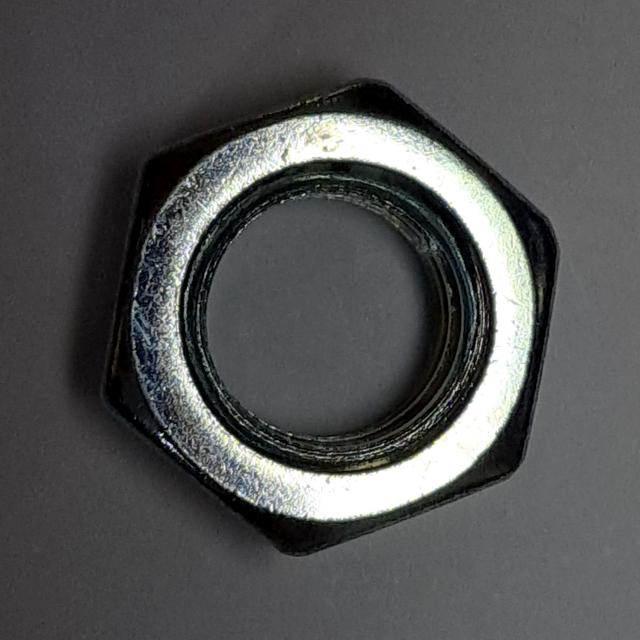Excellent: (83, 68, 567, 573)
